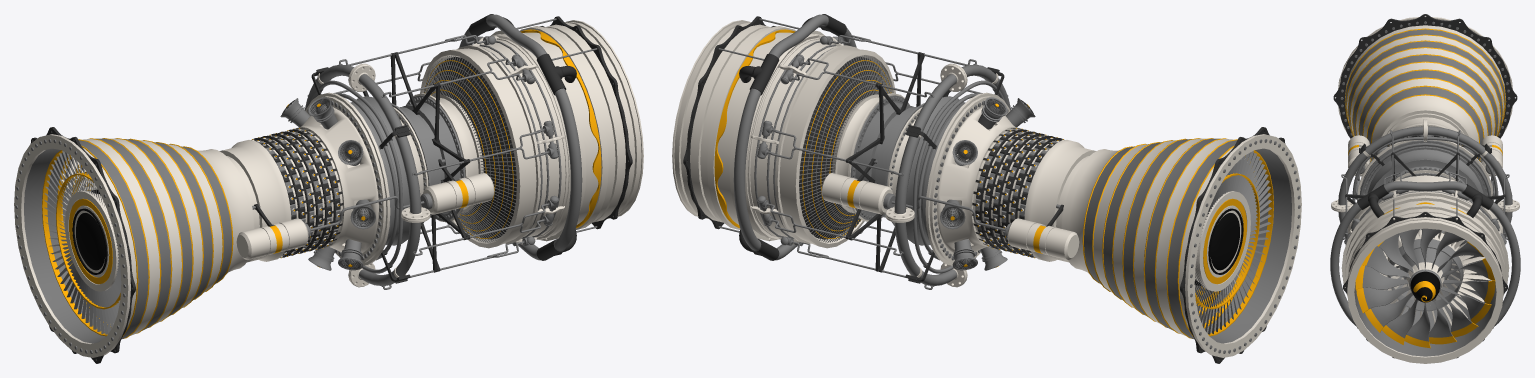
Rendered from engine.glb.
The picture shows the model from 3 angles, left to right: view 1: azimuth 30°, elevation 25°; view 2: azimuth 150°, elevation 25°; view 3: azimuth 270°, elevation 25°; orthographic projection. The views are drawn at different scales.
Parts seen in each view (by area): view 1: hull_turbine.004, pipes_turbine.009, grid_turbine.007, plates_turbine.016, canister_turbine.011, mount_turbine.014, blades_turbine.003, blades-dividers_turbine.017, screws_turbine.001; view 2: hull_turbine.004, pipes_turbine.009, grid_turbine.007, plates_turbine.016, canister_turbine.011, mount_turbine.014, blades_turbine.003, blades-dividers_turbine.017, screws_turbine.001; view 3: hull_turbine.004, blades_turbine.003, pipes_turbine.009, mount_turbine.014, canister_turbine.011, screws_turbine.001.
Boxes of the visible parts, bbox=[...] form: hull_turbine.004: bbox=[14, 16, 643, 363]; pipes_turbine.009: bbox=[304, 14, 582, 289]; grid_turbine.007: bbox=[282, 55, 516, 268]; plates_turbine.016: bbox=[251, 128, 343, 258]; canister_turbine.011: bbox=[236, 36, 558, 259]; mount_turbine.014: bbox=[252, 18, 597, 287]; blades_turbine.003: bbox=[44, 151, 121, 334]; blades-dividers_turbine.017: bbox=[42, 150, 120, 336]; screws_turbine.001: bbox=[15, 97, 462, 353]; hull_turbine.004: bbox=[672, 16, 1301, 363]; pipes_turbine.009: bbox=[733, 14, 1011, 289]; grid_turbine.007: bbox=[799, 55, 1033, 268]; plates_turbine.016: bbox=[972, 128, 1064, 258]; canister_turbine.011: bbox=[757, 36, 1079, 259]; mount_turbine.014: bbox=[718, 18, 1063, 287]; blades_turbine.003: bbox=[1194, 151, 1271, 334]; blades-dividers_turbine.017: bbox=[1195, 150, 1273, 336]; screws_turbine.001: bbox=[853, 97, 1300, 353]; hull_turbine.004: bbox=[1333, 14, 1517, 363]; blades_turbine.003: bbox=[1355, 228, 1495, 348]; pipes_turbine.009: bbox=[1330, 126, 1520, 328]; mount_turbine.014: bbox=[1331, 119, 1519, 233]; canister_turbine.011: bbox=[1344, 135, 1506, 244]; screws_turbine.001: bbox=[1340, 21, 1510, 196].
Size of the model in its own units: 4.12 by 1.62 by 1.63.
